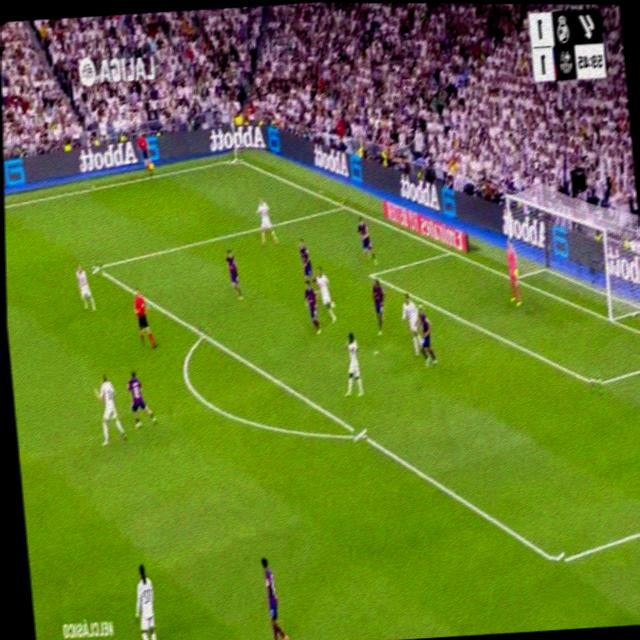bigarea_bottom_inner: (549, 544, 566, 579)
bigarea_top_inner: (91, 256, 102, 277)
bigarea_top_outter: (338, 196, 349, 215)
bottom_arc_area_intersection: (352, 419, 368, 447)
corner: (229, 151, 242, 165)
smallarea_bottom_inner: (589, 371, 603, 396)
top_arc_area_intersection: (197, 321, 210, 344)
